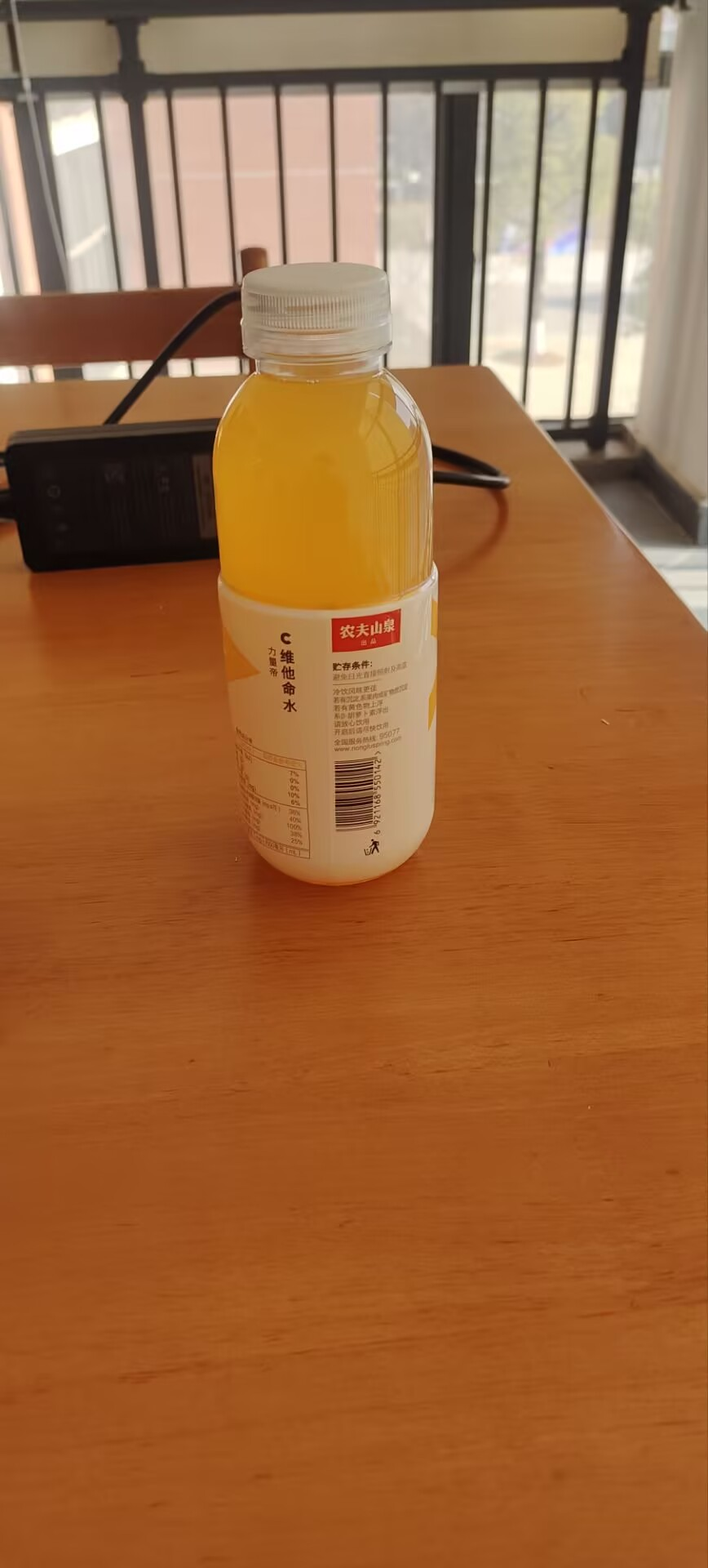redbull: (199, 252, 452, 897)
